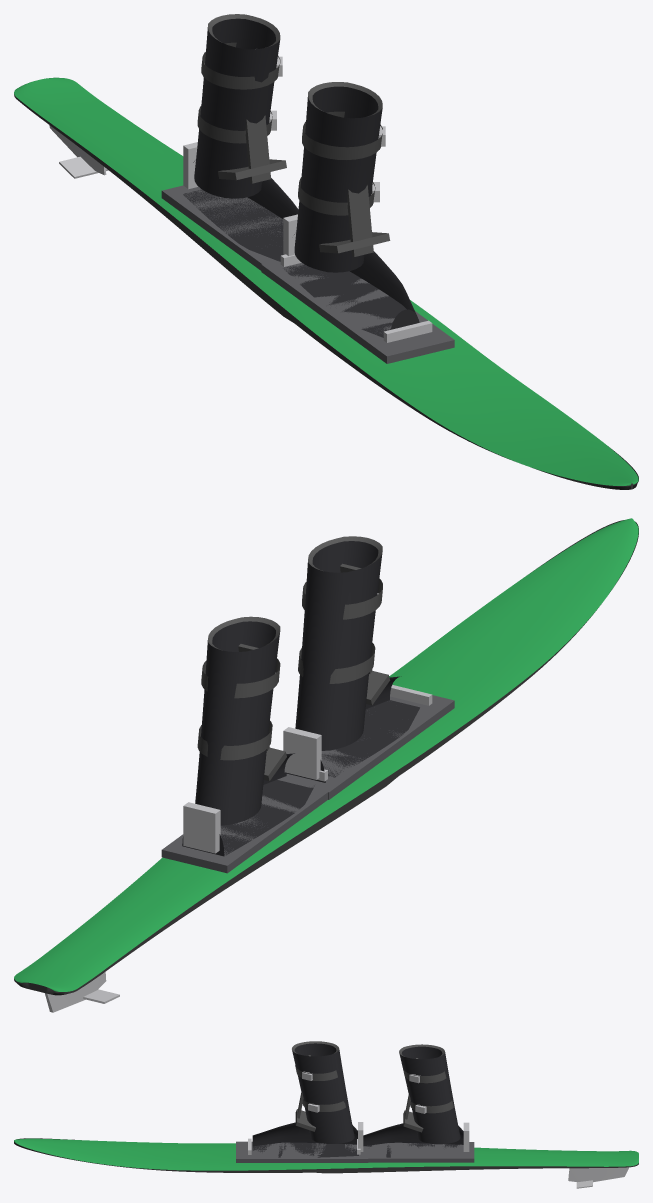
The model's file is SkiV3_DoubleBoot.fbx.
3 views of the same model, one above another, from view 1: azimuth 30°, elevation 25°; view 2: azimuth 150°, elevation 25°; view 3: azimuth 270°, elevation 25° (orthographic). The views are drawn at different scales.
Parts seen in each view (by area): view 1: BindingsV3_LOD0, SkiV3_LOD0; view 2: BindingsV3_LOD0, SkiV3_LOD0; view 3: BindingsV3_LOD0, SkiV3_LOD0.
Boxes of the visible parts, x1,y1,x2,y2 form: BindingsV3_LOD0: [49, 14, 454, 363]; SkiV3_LOD0: [14, 77, 638, 489]; BindingsV3_LOD0: [45, 536, 454, 1012]; SkiV3_LOD0: [14, 518, 638, 995]; BindingsV3_LOD0: [236, 1041, 628, 1188]; SkiV3_LOD0: [14, 1138, 638, 1173].
Size of what is drawn, in the model's own units: 0.1767 by 0.403 by 1.7.
